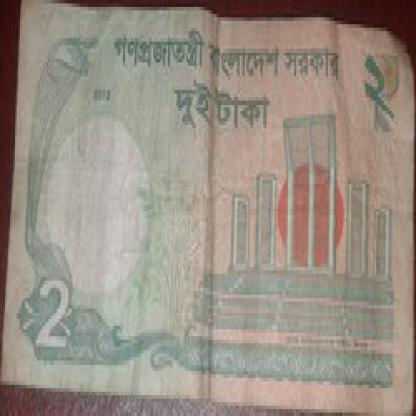two taka: (36, 267, 92, 385), (358, 42, 398, 124)
